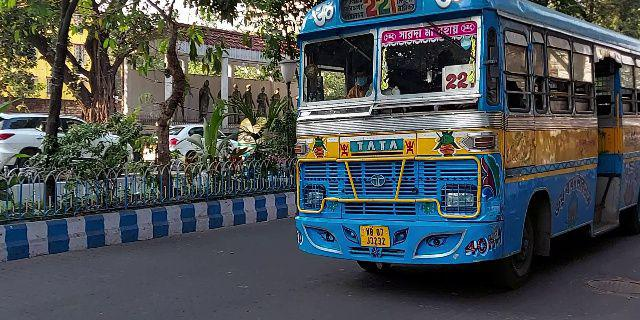Bus: (292, 1, 640, 274)
